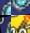mirror: (11, 0, 30, 15), (0, 15, 11, 33), (0, 0, 11, 15)
